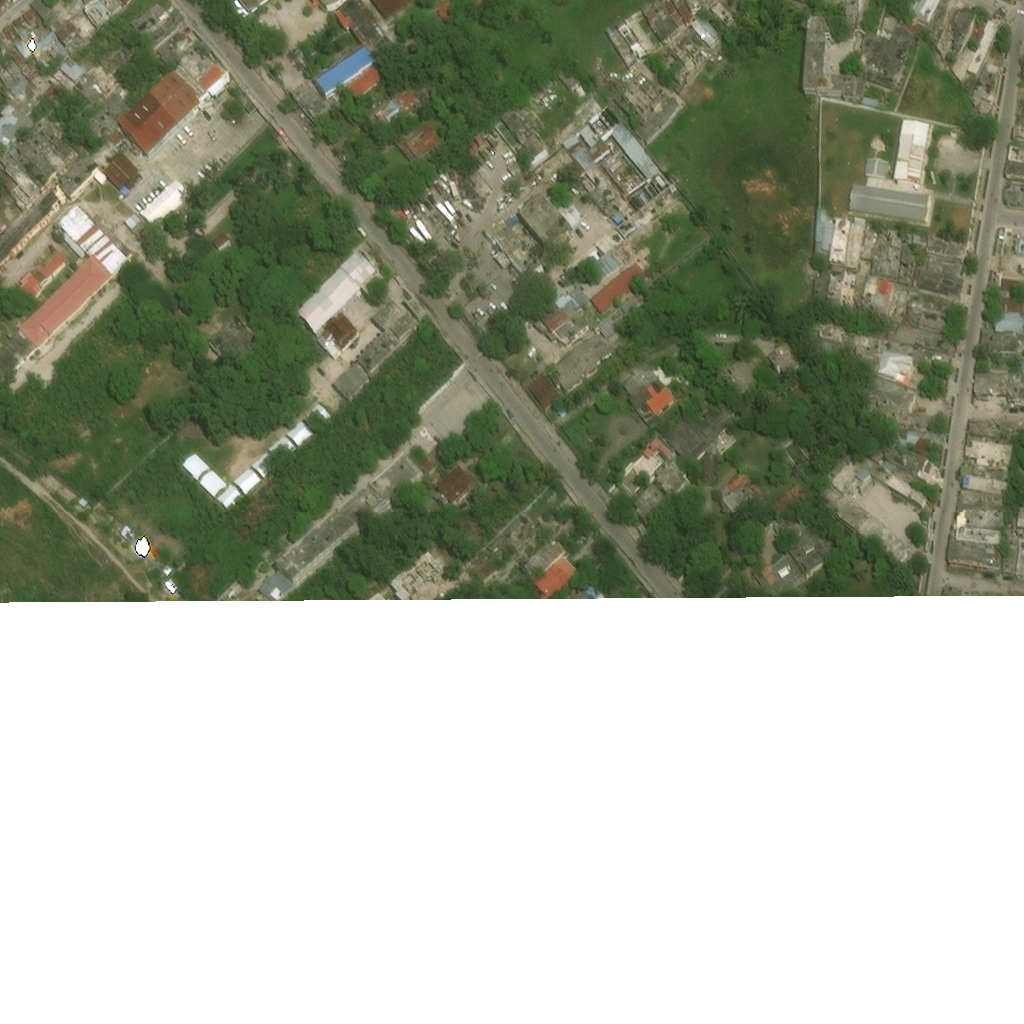minor_damage: (77, 90, 132, 148), (151, 18, 200, 67), (0, 152, 60, 190), (293, 84, 342, 129), (141, 7, 187, 52), (17, 134, 67, 173), (0, 163, 41, 207), (37, 118, 78, 160), (129, 0, 171, 39), (965, 417, 1001, 446), (55, 19, 83, 50), (81, 0, 112, 27), (0, 182, 21, 221), (29, 17, 48, 36), (42, 78, 60, 95), (80, 54, 95, 70), (17, 25, 31, 39), (37, 65, 44, 72)
no_damage: (283, 486, 388, 591), (34, 232, 129, 330), (390, 355, 486, 448), (608, 118, 680, 226), (119, 72, 205, 158), (296, 254, 379, 338), (355, 297, 424, 377), (476, 482, 549, 552), (0, 192, 64, 270), (855, 23, 921, 88), (0, 312, 54, 384), (312, 44, 377, 101), (847, 183, 933, 226), (916, 235, 973, 298), (484, 217, 541, 277), (530, 127, 596, 178), (553, 331, 611, 389), (520, 194, 576, 253), (119, 154, 175, 211), (786, 526, 842, 583), (72, 51, 126, 107), (861, 390, 937, 428), (892, 118, 933, 188), (137, 174, 191, 227), (610, 442, 664, 495), (53, 201, 105, 256), (951, 513, 1006, 565), (227, 541, 283, 592), (858, 518, 913, 569), (850, 347, 922, 385), (371, 449, 422, 502), (334, 0, 389, 48), (515, 531, 573, 576), (209, 314, 259, 364), (664, 413, 713, 463), (880, 445, 939, 486), (873, 235, 921, 283), (883, 321, 954, 353), (875, 468, 930, 509), (373, 89, 423, 131), (833, 217, 868, 273), (91, 210, 134, 254), (432, 454, 477, 496), (832, 461, 874, 506), (624, 480, 665, 523), (640, 0, 681, 43), (756, 556, 811, 588), (806, 23, 830, 96), (0, 103, 36, 151), (926, 0, 962, 48), (413, 426, 455, 467), (605, 24, 649, 63), (766, 339, 804, 383), (949, 7, 981, 59), (59, 154, 98, 196), (990, 224, 1023, 271), (961, 461, 1009, 493), (700, 408, 736, 449), (770, 480, 809, 517), (346, 64, 385, 100), (726, 468, 762, 506), (554, 311, 592, 347), (969, 20, 998, 67), (728, 356, 760, 398), (103, 153, 139, 190), (407, 127, 444, 163), (334, 362, 369, 400), (955, 487, 1006, 513), (29, 29, 69, 61), (971, 60, 1003, 100), (655, 461, 690, 497), (525, 367, 560, 403), (621, 363, 659, 394), (671, 38, 706, 71), (13, 266, 49, 298), (894, 424, 933, 453), (326, 311, 358, 346), (645, 431, 679, 463), (597, 309, 629, 343), (830, 270, 856, 311), (90, 139, 122, 172), (590, 249, 623, 281), (366, 0, 413, 22), (299, 396, 331, 428), (249, 446, 280, 479), (909, 297, 957, 318), (36, 245, 68, 276), (232, 464, 263, 496), (282, 414, 314, 445), (534, 558, 566, 589), (972, 373, 1010, 399), (861, 222, 882, 268), (182, 451, 213, 482), (7, 80, 37, 112), (214, 483, 245, 513), (585, 104, 616, 134), (780, 432, 809, 464), (663, 0, 697, 27), (806, 82, 860, 99), (267, 431, 297, 461), (199, 468, 228, 498), (201, 71, 229, 101), (625, 9, 653, 39), (29, 0, 60, 26), (647, 386, 675, 414), (69, 8, 96, 37), (916, 311, 955, 331), (816, 225, 837, 262), (813, 267, 834, 302), (710, 0, 737, 27), (236, 0, 268, 22), (699, 450, 721, 481), (0, 71, 26, 97), (721, 487, 749, 511), (626, 384, 652, 409), (995, 272, 1023, 295), (435, 0, 460, 25), (1002, 531, 1018, 570), (865, 159, 891, 183), (994, 316, 1023, 337), (566, 288, 591, 312), (59, 63, 87, 84), (994, 295, 1023, 315), (865, 282, 882, 316), (854, 277, 870, 313), (915, 0, 939, 23), (1007, 150, 1023, 183), (648, 357, 670, 380), (577, 121, 599, 144), (847, 0, 869, 23), (768, 518, 789, 542), (473, 550, 495, 572), (1002, 183, 1023, 206), (698, 28, 719, 51), (879, 0, 899, 24), (730, 501, 753, 521), (546, 393, 567, 414), (0, 60, 17, 85), (876, 300, 896, 320), (560, 67, 578, 88), (44, 0, 69, 15), (879, 284, 898, 303), (211, 226, 230, 245), (1006, 338, 1023, 358), (1009, 376, 1023, 400), (8, 41, 25, 60), (580, 170, 596, 188), (8, 7, 25, 23), (20, 0, 36, 17), (688, 0, 706, 14), (861, 95, 879, 108), (0, 16, 15, 31), (896, 287, 908, 305), (979, 99, 994, 113), (894, 304, 906, 321), (673, 69, 687, 83), (822, 0, 846, 8), (981, 334, 992, 350), (1013, 127, 1023, 143), (719, 484, 732, 496), (0, 53, 10, 68), (1014, 109, 1023, 125), (21, 57, 33, 69), (66, 57, 78, 69), (873, 138, 885, 147), (323, 0, 337, 7), (1010, 514, 1017, 525), (702, 0, 714, 6), (1019, 361, 1023, 374)
unclassified: (879, 503, 916, 531), (63, 0, 88, 17), (410, 212, 430, 233), (1000, 421, 1021, 440), (419, 223, 439, 242), (415, 218, 434, 237), (99, 0, 123, 15), (821, 340, 843, 356), (1015, 534, 1023, 571), (429, 235, 445, 252), (424, 231, 440, 247), (1017, 507, 1023, 532), (0, 217, 8, 234), (120, 0, 134, 6)
